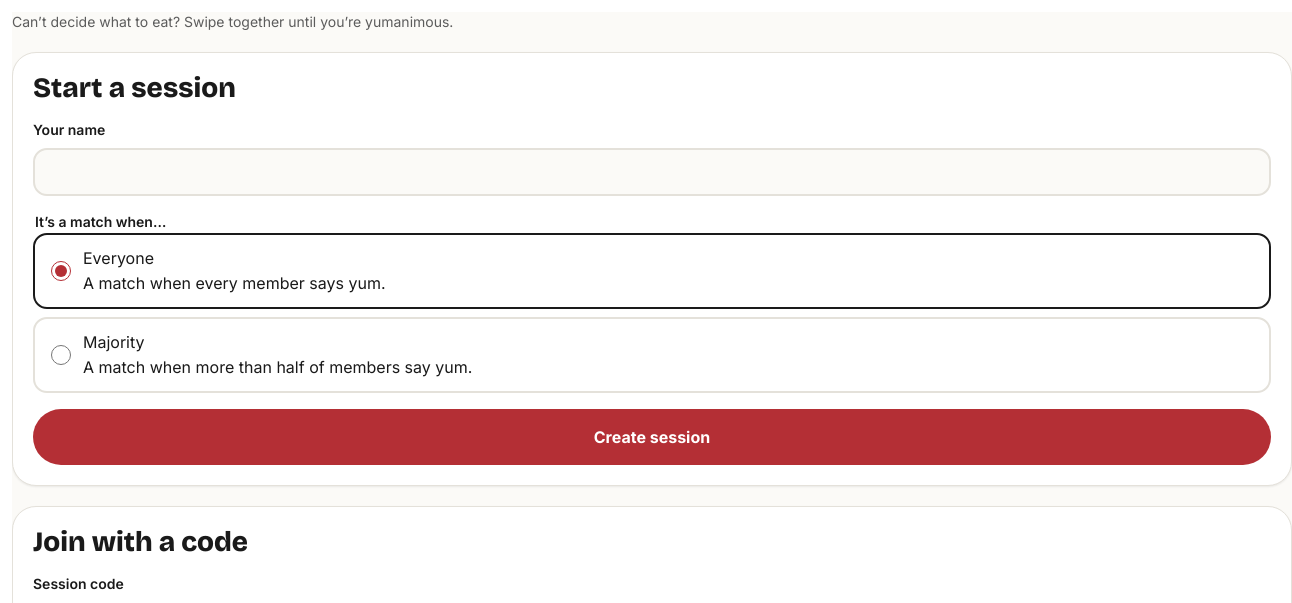
Test: HomePage › says the server is unreachable when the dev proxy cannot reach the API
Type "Vy" into the field labelled "Your name" at (652, 172), box x1=33 y1=148 x2=1271 y2=196
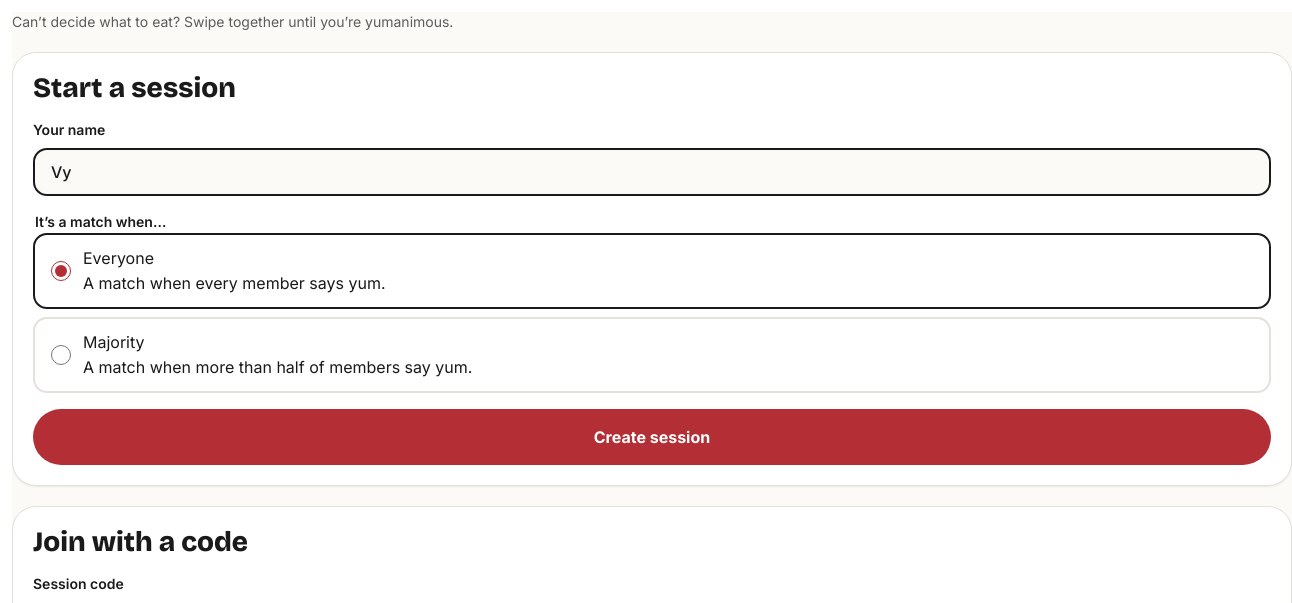
Click the button "Create session" at (652, 437), box x1=33 y1=409 x2=1271 y2=465
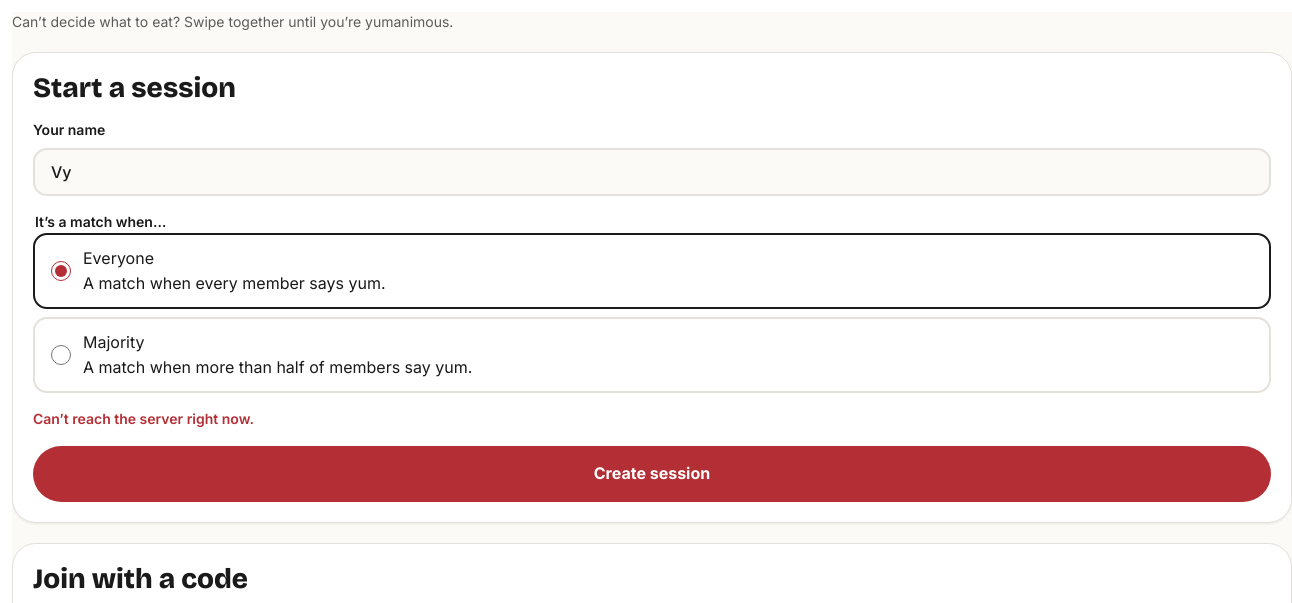
Expected: the message shows "Can’t reach the server", x1=33 y1=410 x2=254 y2=427
